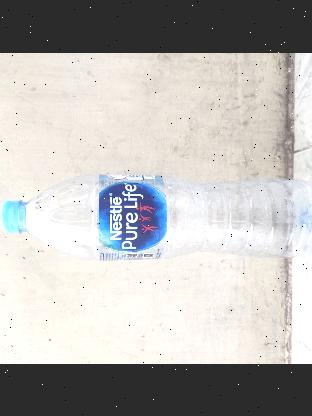Plastic Bottle: (0, 173, 312, 261)
